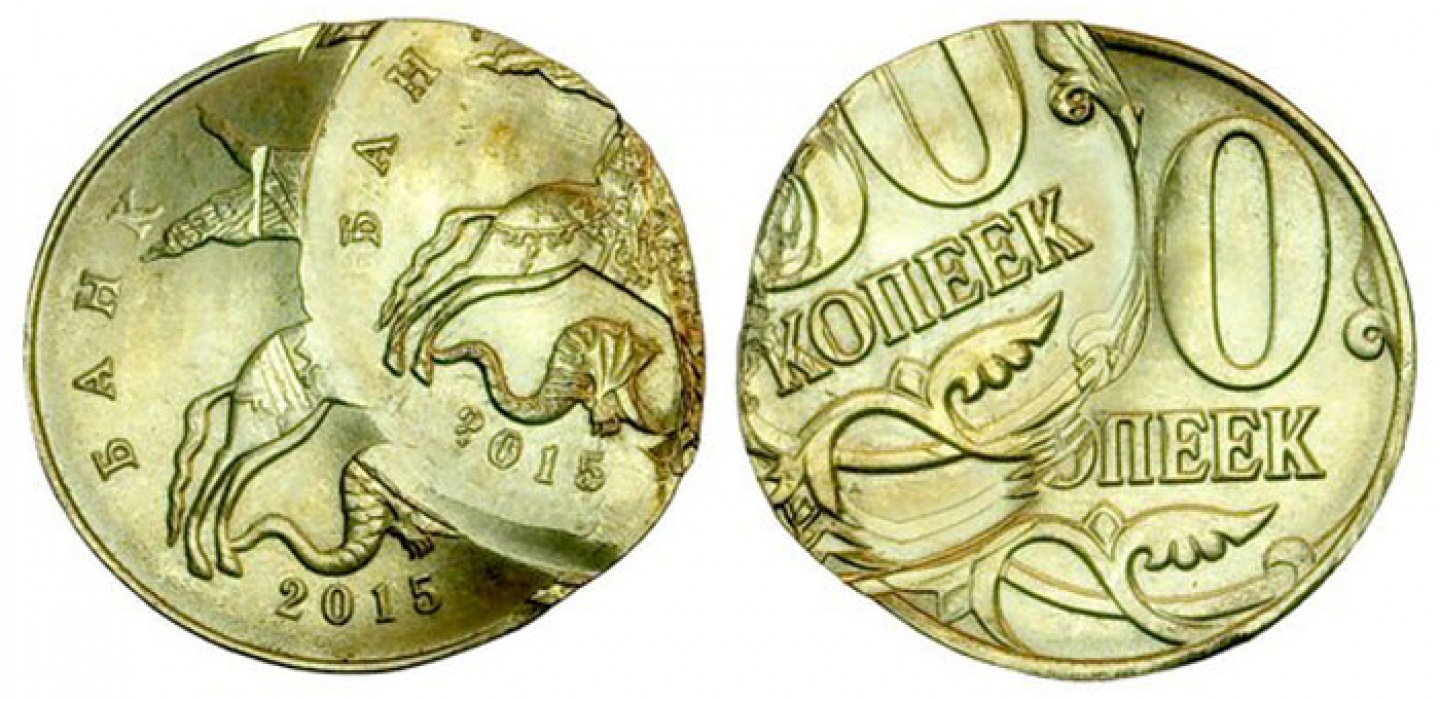coin: (730, 18, 1425, 684), (22, 16, 708, 676)
